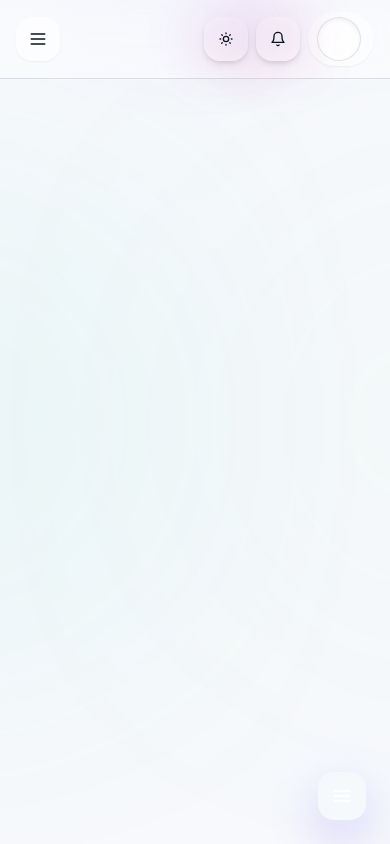
AppShell › toggles mobile sidebar drawer
Click the button named "toggle mobile navigation menu".
click(342, 796)  # box [318,772,366,820]
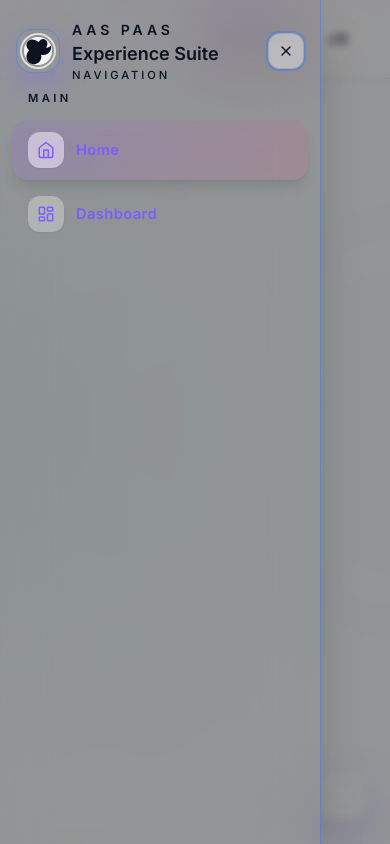
Result: the button named "close menu" is shown at [268,33,304,69]
